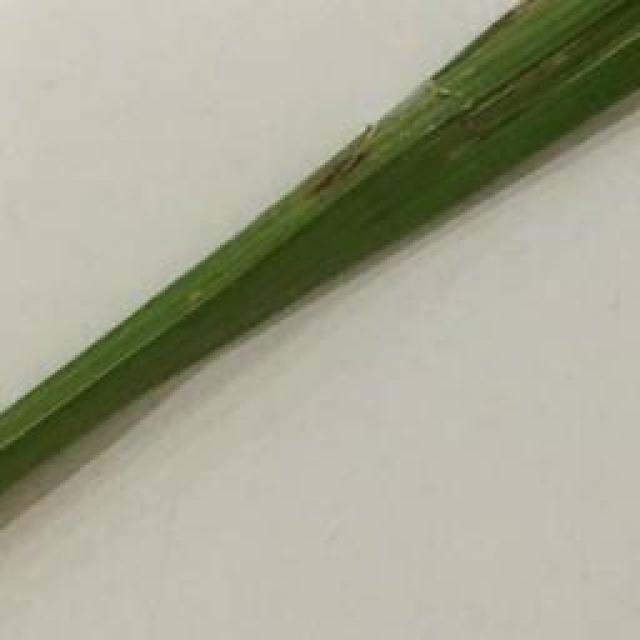Brown_Spot: (427, 0, 640, 167), (286, 132, 376, 222)
